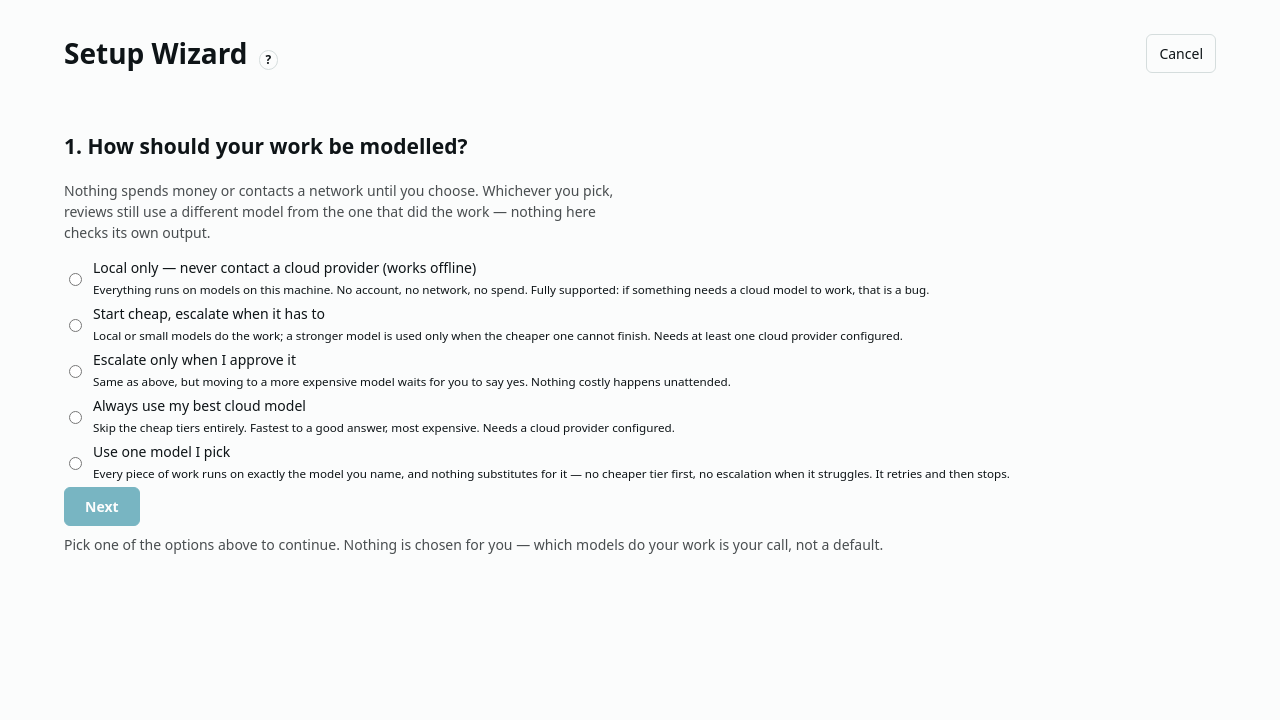
Scenario: FirstRunWizard — model policy (W12-13, D-024) › offers local-only as a first-class choice, marked as working offline (C-1)
This screenshot has width=1280, height=720.
Expected: the text "works offline" is shown, [379,258,476,277]
Note: Selecting it is enough to proceed: no provider, no network, no spend.
Click the radio button labelled "Local only" at (76, 280), box [69,273,82,286]
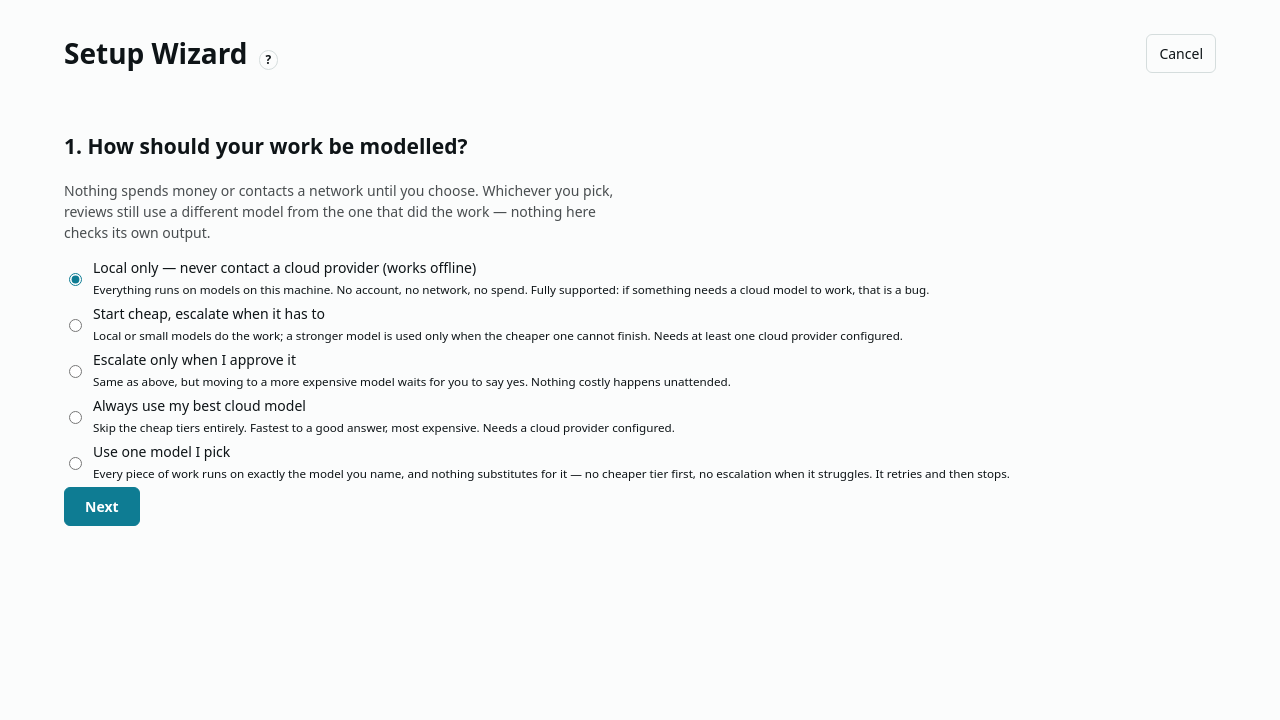
Expected: the button "Next" is enabled, [64,487,140,526]
